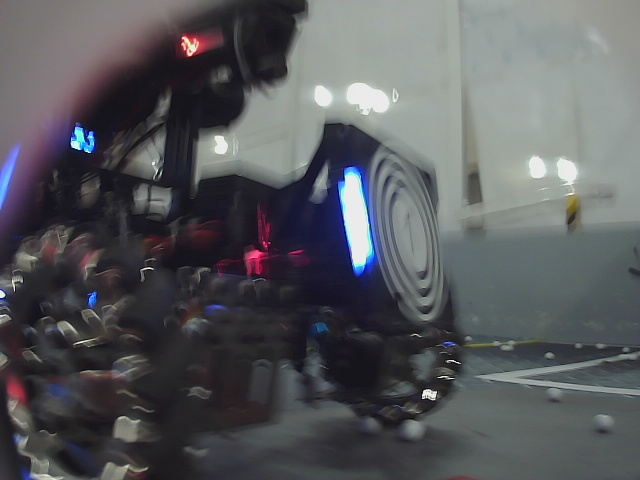lamp: (333, 167, 380, 275)
